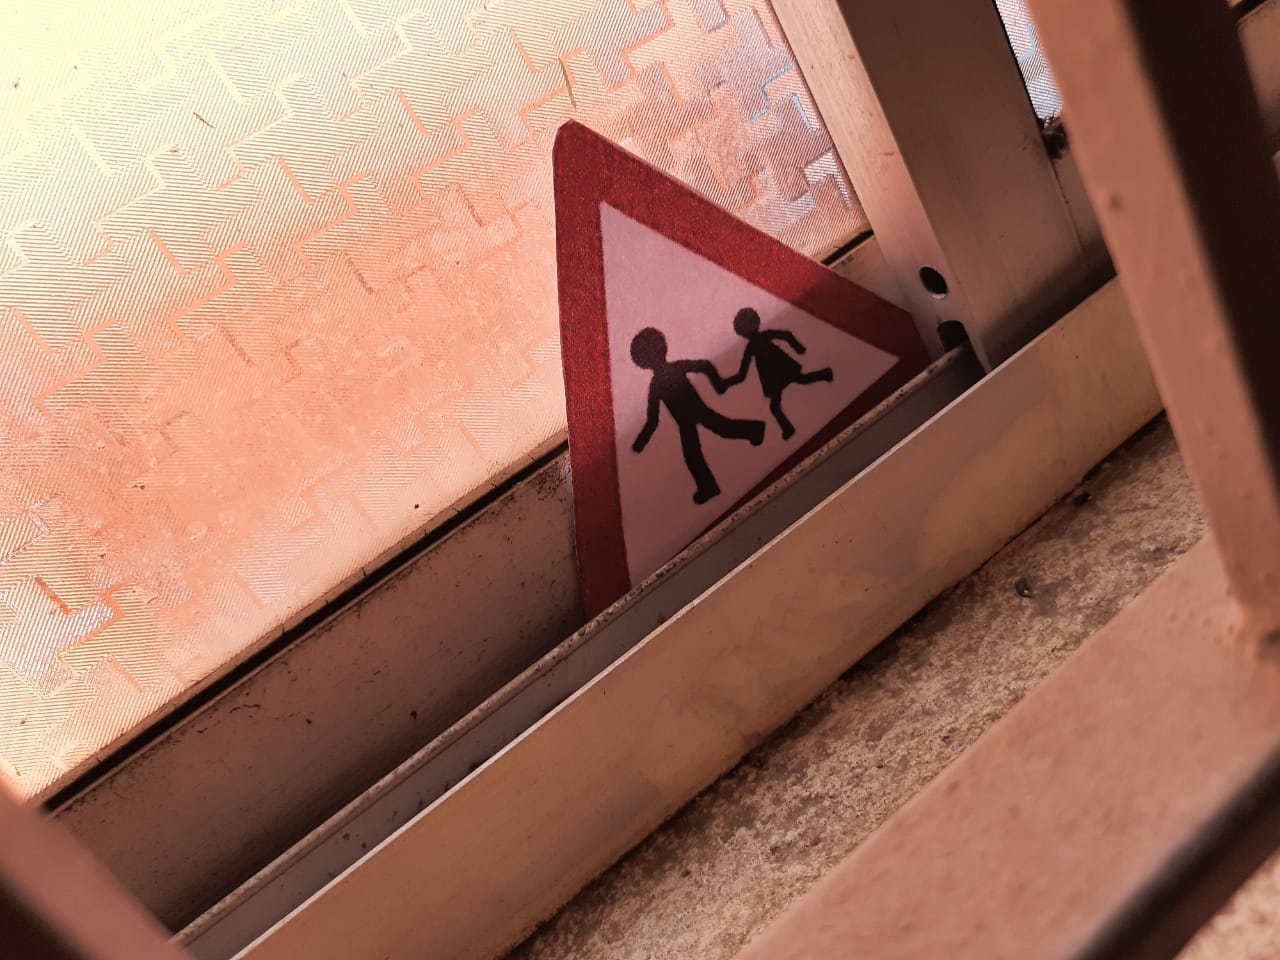SCHOOL ZONE: (534, 104, 956, 624)
